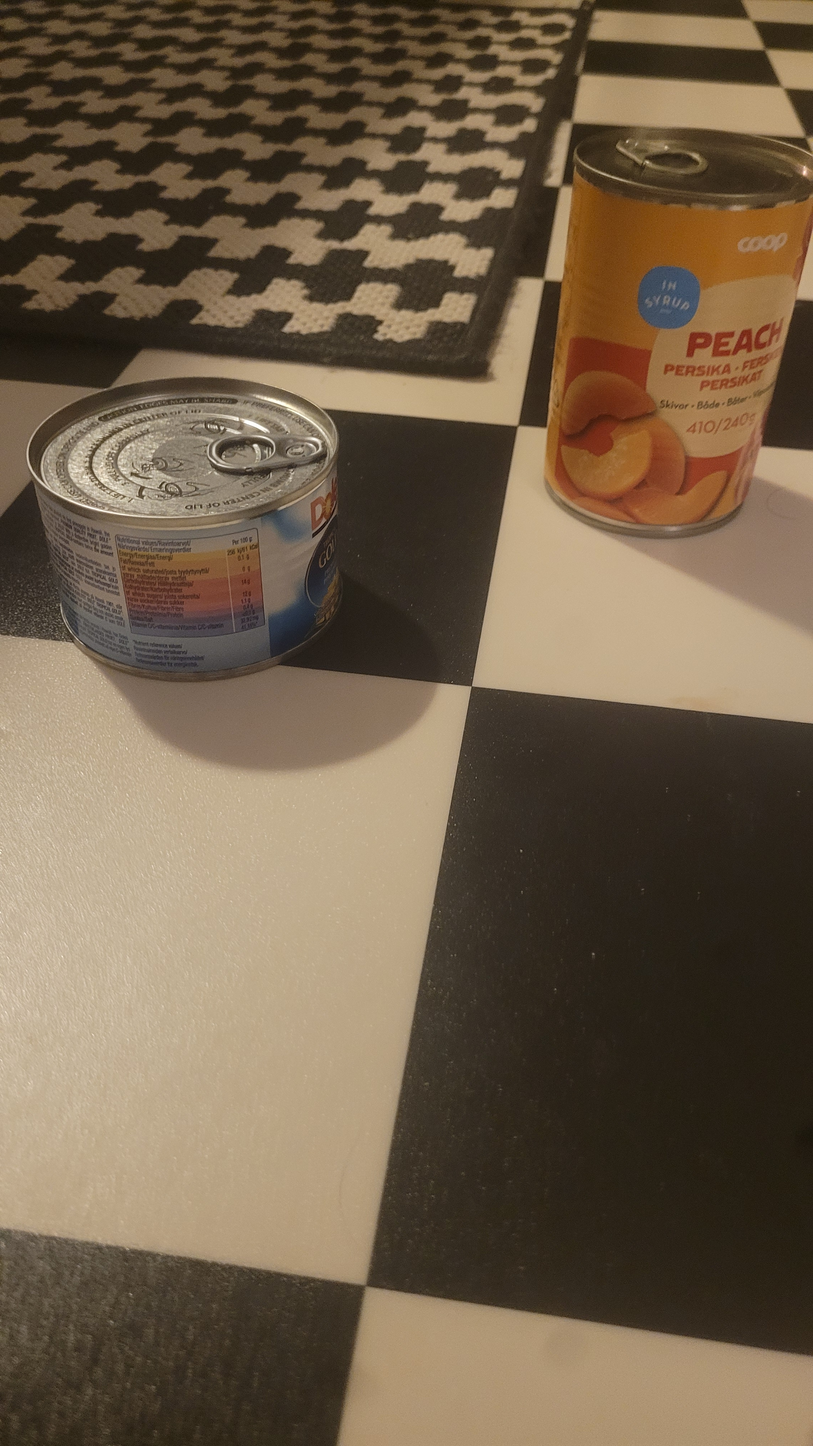Konservburk: (542, 128, 813, 541), (26, 378, 341, 682)
